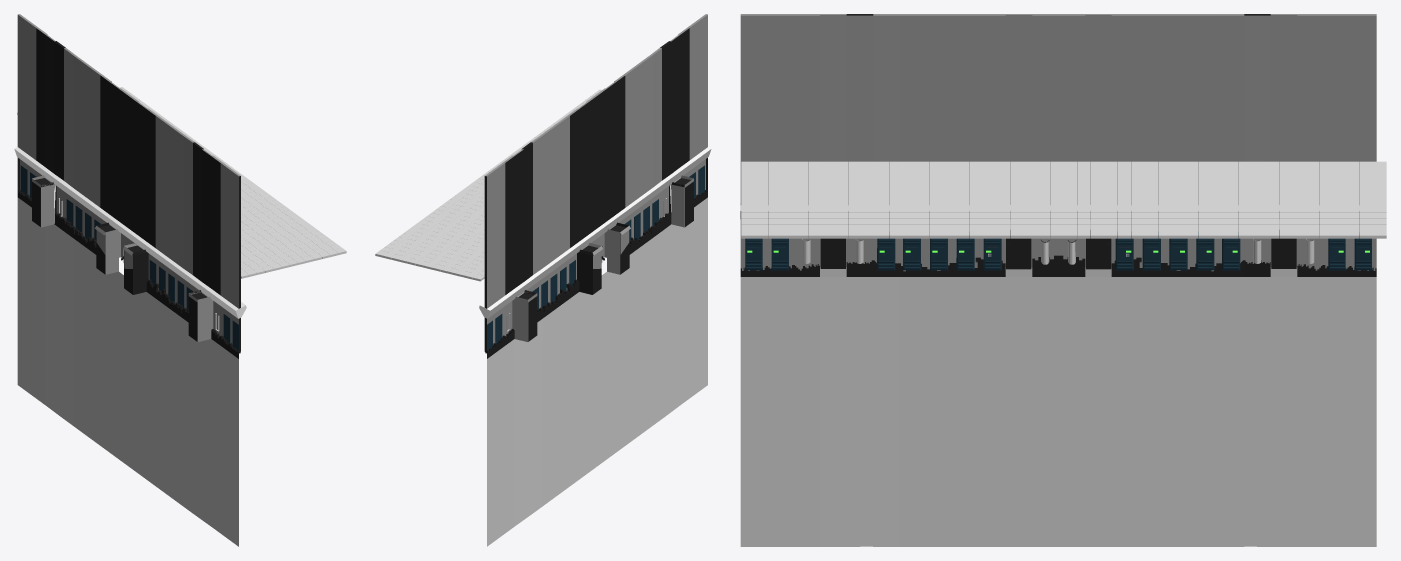
The model's file is toonhallway_v2.fbx.
The picture shows the model from 3 angles, left to right: view 1: azimuth 30°, elevation 25°; view 2: azimuth 150°, elevation 25°; view 3: azimuth 270°, elevation 25°; orthographic projection. The views are drawn at different scales.
Parts seen in each view (by area): view 1: Hallway, Cube.001, LongLights, Locker, Door; view 2: Hallway, Cube.001, LongLights, Locker, Door; view 3: Hallway, Cube.001, Locker, Door, MalloditeLightPillar.
Boxes of the visible parts, box(x1,y1,x2,y2) form: Hallway: box(17, 14, 240, 546); Cube.001: box(17, 87, 346, 278); LongLights: box(14, 147, 246, 318); Locker: box(20, 165, 238, 350); Door: box(32, 181, 197, 341); Hallway: box(484, 14, 707, 546); Cube.001: box(375, 89, 601, 281); LongLights: box(479, 147, 711, 318); Locker: box(487, 165, 704, 350); Door: box(528, 181, 693, 341); Hallway: box(740, 14, 1376, 546); Cube.001: box(741, 161, 1386, 238); Locker: box(744, 232, 1372, 270); Door: box(820, 219, 1296, 269); MalloditeLightPillar: box(802, 239, 1314, 264).
Size of the model in its own units: 3069 by 8834 by 9709.
